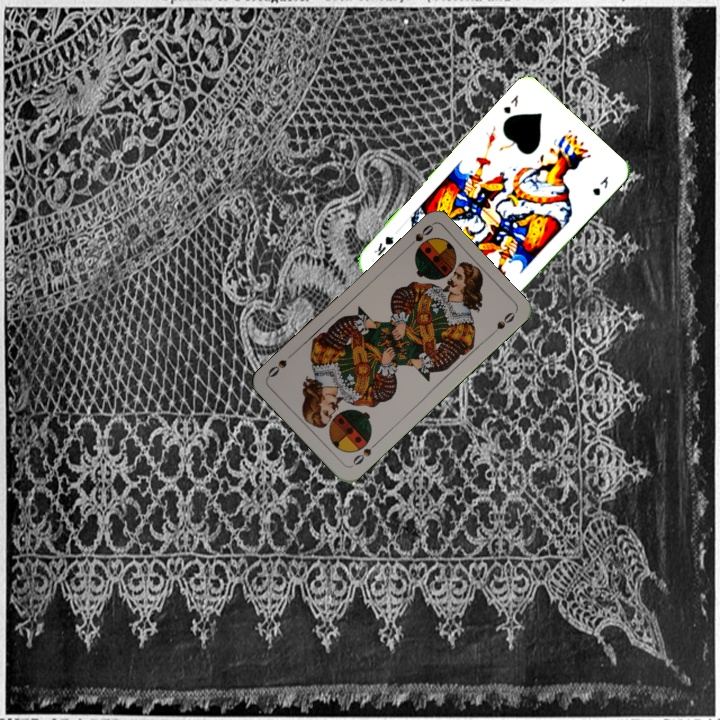GK: (499, 91, 521, 116)
SO: (402, 220, 436, 252), (349, 438, 380, 468)
